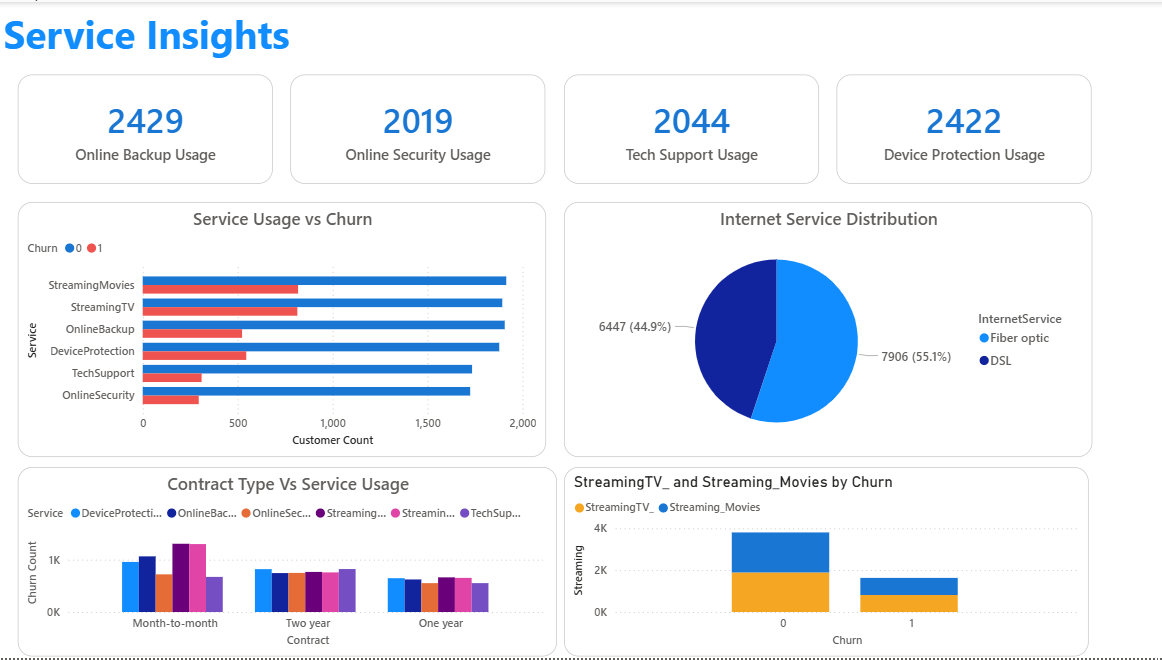

Layout of this report page (visuals, bound fields, positions):
{"tool":"powerbi","page":{"name":"Service Insights","canvas":[1280,720],"ordinal":1},"visuals":[{"type":"textbox","box":[0,0,1280,70],"z":0},{"type":"card","fields":{"Values":["Telco-Customer-Churn.Online_Backup"]},"box":[20,80,280,120],"z":1000},{"type":"card","fields":{"Values":["Telco-Customer-Churn.Online_Security_Count"]},"box":[320,80,280,120],"z":2000},{"type":"card","fields":{"Values":["Telco-Customer-Churn.Tech_Support_Usage"]},"box":[620,80,280,120],"z":3000},{"type":"card","fields":{"Values":["Telco-Customer-Churn.Device_Protection_Usage"]},"box":[920,80,280,120],"z":4000},{"type":"clusteredBarChart","title":"Service Usage vs Churn","fields":{"Category":["Telco-Customer-Churn.Service"],"Y":["CountNonNull(Telco-Customer-Churn.customerID)"],"Series":["Telco-Customer-Churn.Churn"]},"box":[20,220,580,280],"z":5000},{"type":"pieChart","title":"Internet Service Distribution","fields":{"Y":["Telco-Customer-Churn.Customer_Count"],"Category":["Telco-Customer-Churn.InternetService"]},"box":[620,220,580,280],"z":6000},{"type":"clusteredColumnChart","title":"Contract Type Vs Service Usage","fields":{"Category":["Telco-Customer-Churn.Contract"],"Series":["Telco-Customer-Churn.Service"],"Y":["CountNonNull(Telco-Customer-Churn.Churn)"]},"box":[20,510,592,208],"z":7000},{"type":"columnChart","fields":{"Y":["Telco-Customer-Churn.StreamingTV_","Telco-Customer-Churn.Streaming_Movies"],"Category":["Telco-Customer-Churn.Churn"]},"box":[620,510,576,208],"z":8000}]}

Visuals, with their boxes in screenshot pixels (x1, y1, x2, y2), scaled from the page's 1280x720 canvas onto the 1162x660 screenshot:
textbox: {"x1": 0, "y1": 0, "x2": 1161, "y2": 64}
card - Telco-Customer-Churn.Online_Backup: {"x1": 18, "y1": 73, "x2": 272, "y2": 183}
card - Telco-Customer-Churn.Online_Security_Count: {"x1": 290, "y1": 73, "x2": 545, "y2": 183}
card - Telco-Customer-Churn.Tech_Support_Usage: {"x1": 563, "y1": 73, "x2": 817, "y2": 183}
card - Telco-Customer-Churn.Device_Protection_Usage: {"x1": 835, "y1": 73, "x2": 1089, "y2": 183}
"Service Usage vs Churn" clusteredBarChart: {"x1": 18, "y1": 202, "x2": 545, "y2": 458}
"Internet Service Distribution" pieChart: {"x1": 563, "y1": 202, "x2": 1089, "y2": 458}
"Contract Type Vs Service Usage" clusteredColumnChart: {"x1": 18, "y1": 468, "x2": 556, "y2": 658}
columnChart - Telco-Customer-Churn.StreamingTV_ x Telco-Customer-Churn.Streaming_Movies: {"x1": 563, "y1": 468, "x2": 1086, "y2": 658}
